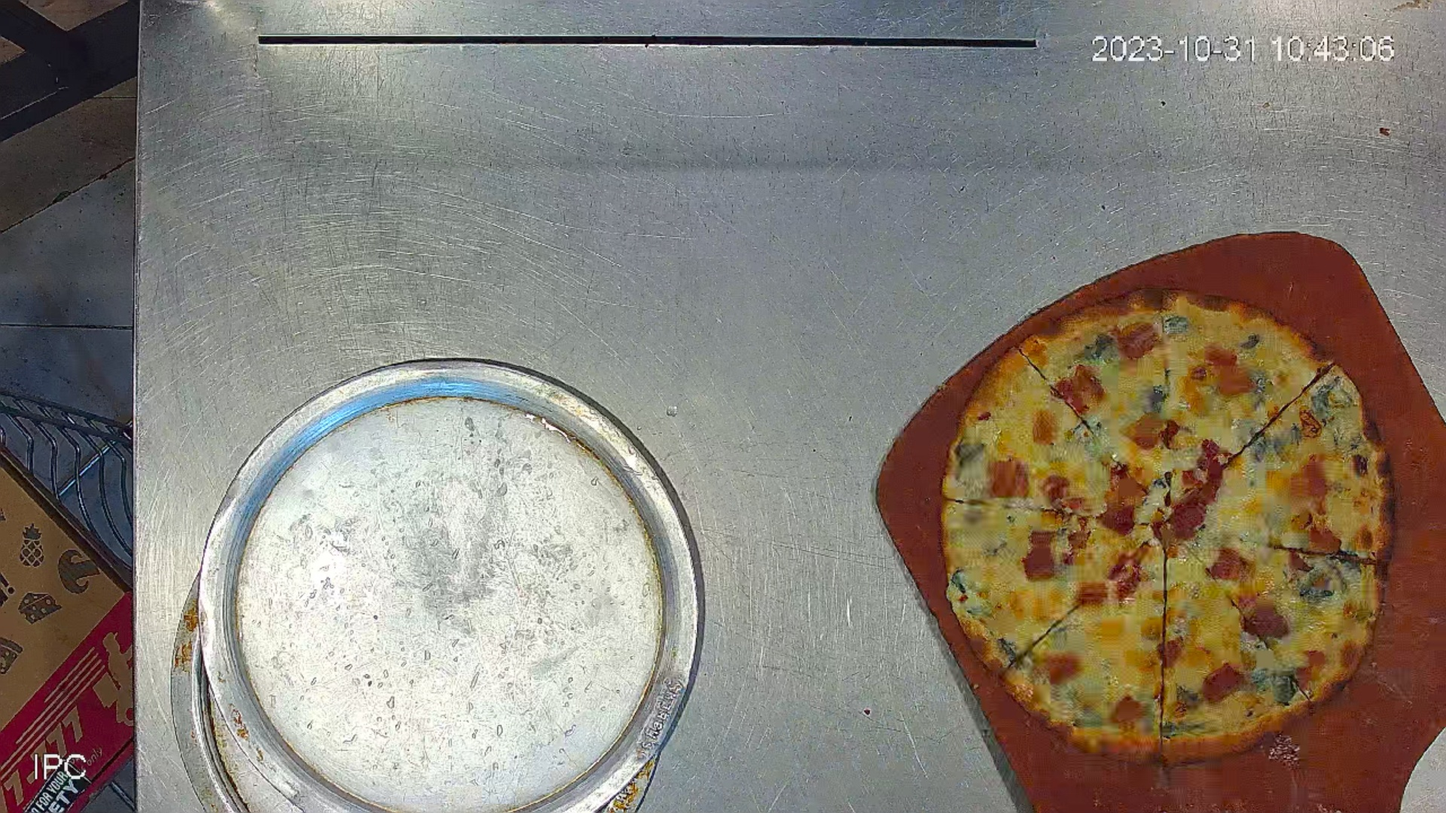pepporoni: (940, 286, 1395, 769)
